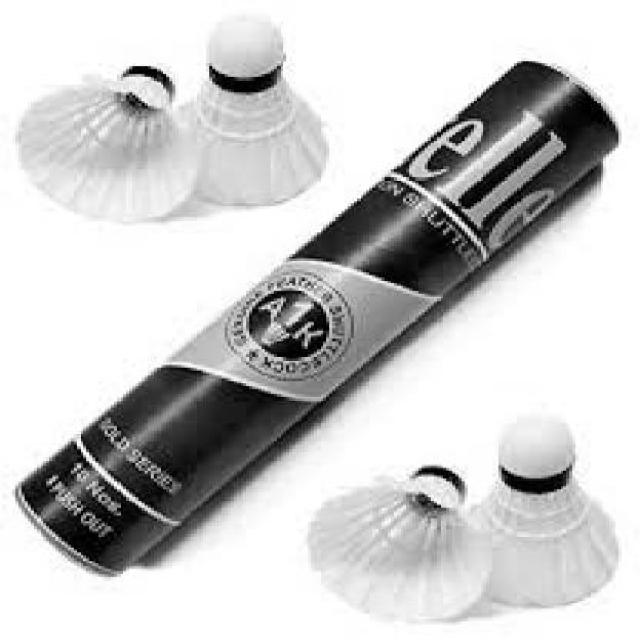Shuttlecock: (14, 13, 331, 225)
